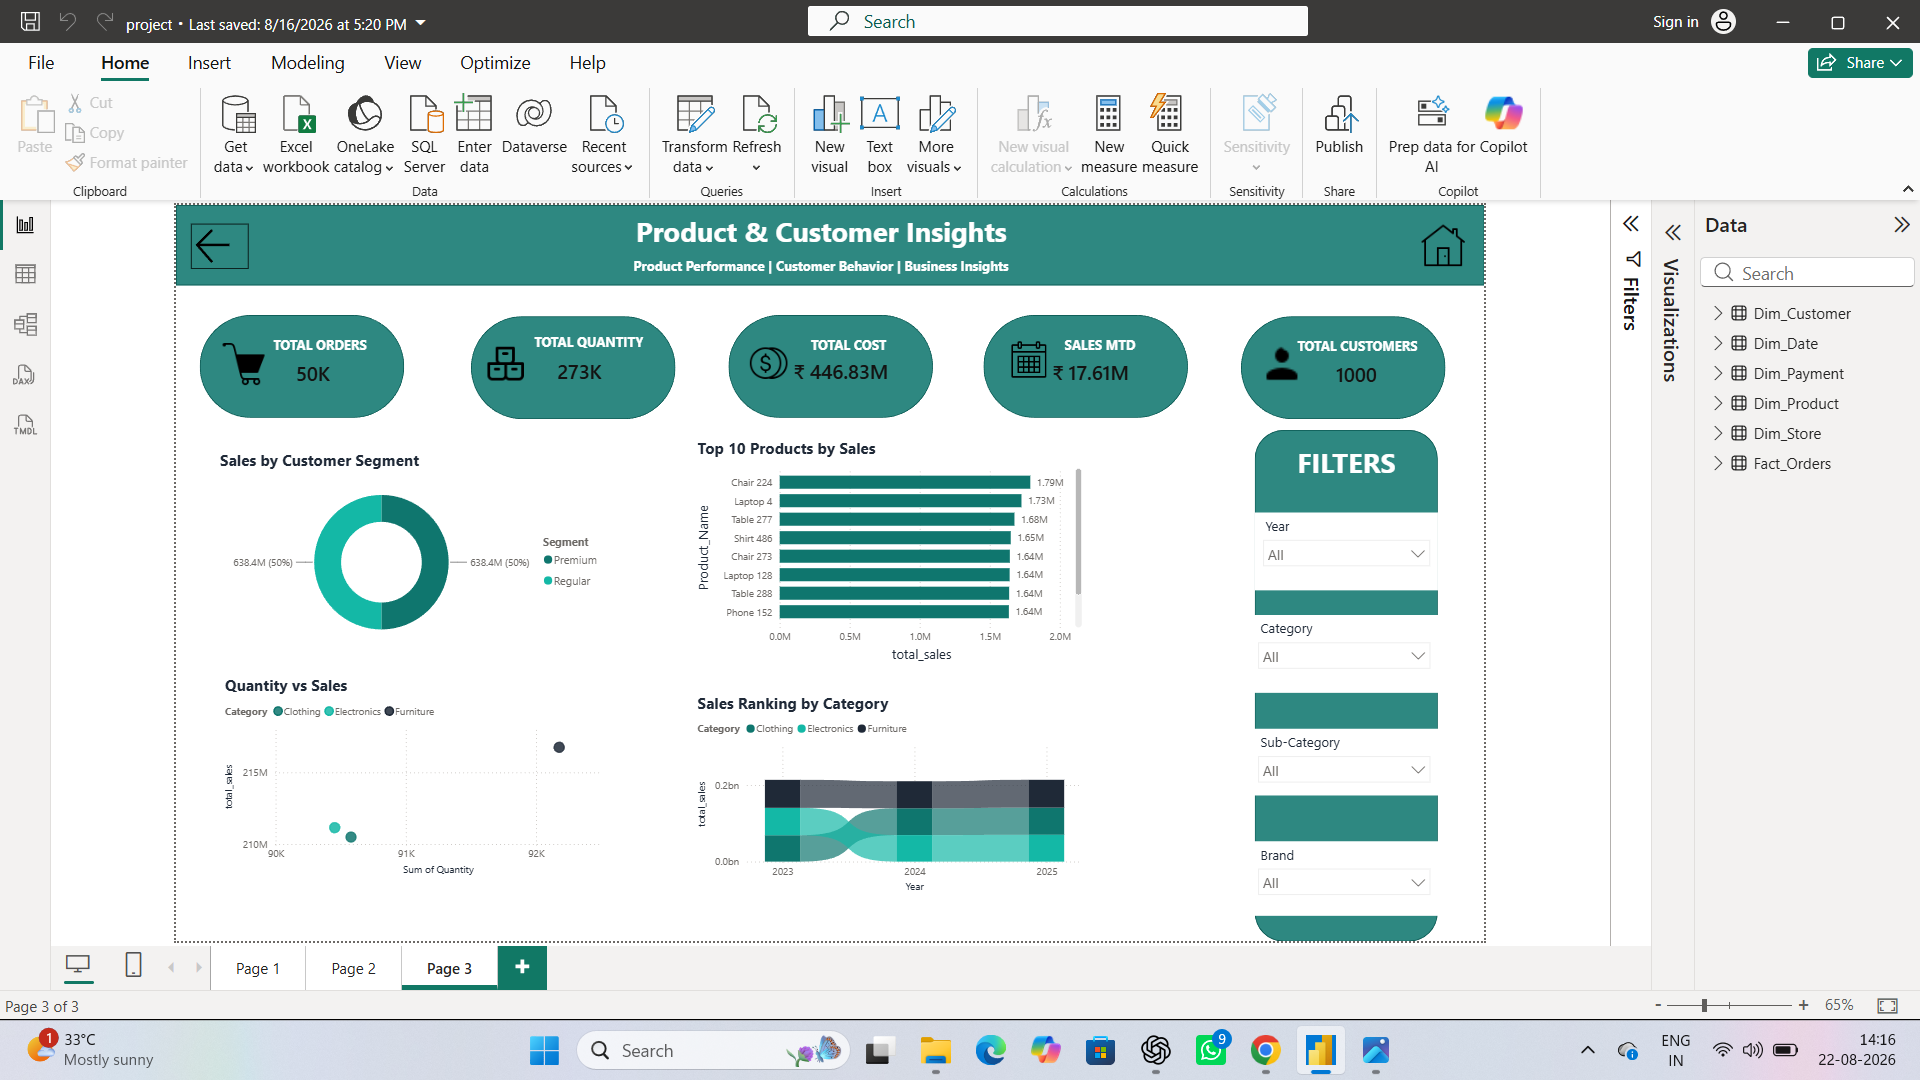

Layout of this report page (visuals, bound fields, positions):
{"tool":"powerbi","page":{"name":"Page 3","canvas":[1600,900],"ordinal":2},"visuals":[{"type":"shape","box":[29.3,134.2,250,125.8],"z":1000},{"type":"cardVisual","fields":{"Data":["Fact_Orders.total_orders"]},"box":[117.9,158.9,177.4,90.3],"z":2000},{"type":"actionButton","box":[89.3,128.6,175,83.3],"z":3000},{"type":"shape","box":[0,0,1600,98.3],"z":4000},{"type":"actionButton","box":[398.4,0,780.6,62.9],"z":5000},{"type":"actionButton","box":[398.4,31.1,780,85],"z":6000},{"type":"shape","box":[360.7,136.3,250,125.8],"z":7000},{"type":"actionButton","box":[417.9,125,175,83.3],"z":8000},{"type":"shape","box":[676.2,134.5,250,125.8],"z":9000},{"type":"actionButton","box":[735.7,128.6,175,83.3],"z":10000},{"type":"shape","box":[987.9,134.1,250,125.8],"z":11000},{"type":"actionButton","box":[1042.9,128.6,175,83.3],"z":12000},{"type":"shape","box":[1301.8,135.9,250,125.8],"z":13000},{"type":"actionButton","box":[1356.9,129.3,175,83.3],"z":14000},{"type":"cardVisual","fields":{"Data":["Dim_Customer.total_quantity"]},"box":[437.5,144.6,194.1,114.7],"z":15000},{"type":"cardVisual","fields":{"Data":["Fact_Orders.TOTAL CUSTOMER"]},"box":[1389.7,162.1,142.9,87.5],"z":16000},{"type":"cardVisual","fields":{"Data":["Dim_Customer.total_cost"]},"box":[726.8,162.5,191.8,82],"z":17000},{"type":"cardVisual","fields":{"Data":["Dim_Customer.sales mtd"]},"box":[1042.9,155.4,175.4,96.7],"z":18000},{"type":"donutChart","title":"Sales by Customer Segment","fields":{"Category":["Dim_Customer.Segment"],"Y":["Fact_Orders.total_sales"]},"box":[49.4,299.5,480,250],"z":19000},{"type":"clusteredBarChart","title":"Top 10 Products by Sales","fields":{"Category":["Dim_Product.Product_Name"],"Y":["Fact_Orders.total_sales"]},"box":[632.8,284.5,480,280],"z":20000},{"type":"scatterChart","title":"Quantity vs Sales","fields":{"Y":["Fact_Orders.total_sales"],"Series":["Dim_Product.Category"],"X":["Sum(Fact_Orders.Quantity)"]},"box":[54.5,574.6,480,250],"z":21000},{"type":"ribbonChart","title":"Sales Ranking by Category","fields":{"Y":["Fact_Orders.total_sales"],"Series":["Dim_Product.Category"],"Category":["Dim_Date.Date.Variation.Date Hierarchy.Year"]},"box":[632.2,596.6,480,250],"z":22000},{"type":"shape","box":[1319.5,274.9,223.7,625.4],"z":23000},{"type":"slicer","fields":{"Values":["Dim_Date.Year"]},"box":[1319.5,376.6,224.1,94.8],"z":24000},{"type":"slicer","fields":{"Values":["Dim_Product.Category"]},"box":[1312.7,502,230.5,94.9],"z":25000},{"type":"slicer","fields":{"Values":["Dim_Product.Sub_Category"]},"box":[1312.7,641,230.5,81.4],"z":26000},{"type":"slicer","fields":{"Values":["Dim_Product.Brand"]},"box":[1312.7,778.3,230.5,91.5],"z":27000},{"type":"actionButton","box":[1329.7,274.9,203.4,78],"z":28000},{"type":"image","box":[48.2,166.1,69.6,53.6],"z":29000},{"type":"image","box":[367.9,166.1,69.6,53.6],"z":30000},{"type":"image","box":[1014.3,166.1,55.4,46.4],"z":31000},{"type":"image","box":[1317.9,169.6,69.6,50],"z":32000},{"type":"image","box":[689.3,166.1,69.6,53.6],"z":33000},{"type":"actionButton","box":[19,22.4,70,55],"z":33001},{"type":"image","box":[1515.5,22.4,70,55],"z":33002}]}

Visuals, with their boxes on the page's 1600x900 design canvas (x1, y1, x2, y2). These are canvas units, not pixel positions in the 1920x1080 screenshot, which may show the page scaled, cropped or inside an application window:
shape: (29, 134, 279, 260)
cardVisual - Fact_Orders.total_orders: (118, 159, 295, 249)
actionButton: (89, 129, 264, 212)
shape: (0, 0, 1600, 98)
actionButton: (398, 0, 1179, 63)
actionButton: (398, 31, 1178, 116)
shape: (361, 136, 611, 262)
actionButton: (418, 125, 593, 208)
shape: (676, 134, 926, 260)
actionButton: (736, 129, 911, 212)
shape: (988, 134, 1238, 260)
actionButton: (1043, 129, 1218, 212)
shape: (1302, 136, 1552, 262)
actionButton: (1357, 129, 1532, 213)
cardVisual - Dim_Customer.total_quantity: (438, 145, 632, 259)
cardVisual - Fact_Orders.TOTAL CUSTOMER: (1390, 162, 1533, 250)
cardVisual - Dim_Customer.total_cost: (727, 162, 919, 244)
cardVisual - Dim_Customer.sales mtd: (1043, 155, 1218, 252)
"Sales by Customer Segment" donutChart: (49, 300, 529, 550)
"Top 10 Products by Sales" clusteredBarChart: (633, 284, 1113, 564)
"Quantity vs Sales" scatterChart: (54, 575, 534, 825)
"Sales Ranking by Category" ribbonChart: (632, 597, 1112, 847)
shape: (1320, 275, 1543, 900)
slicer - Dim_Date.Year: (1320, 377, 1544, 471)
slicer - Dim_Product.Category: (1313, 502, 1543, 597)
slicer - Dim_Product.Sub_Category: (1313, 641, 1543, 722)
slicer - Dim_Product.Brand: (1313, 778, 1543, 870)
actionButton: (1330, 275, 1533, 353)
image: (48, 166, 118, 220)
image: (368, 166, 438, 220)
image: (1014, 166, 1070, 212)
image: (1318, 170, 1388, 220)
image: (689, 166, 759, 220)
actionButton: (19, 22, 89, 77)
image: (1516, 22, 1586, 77)
